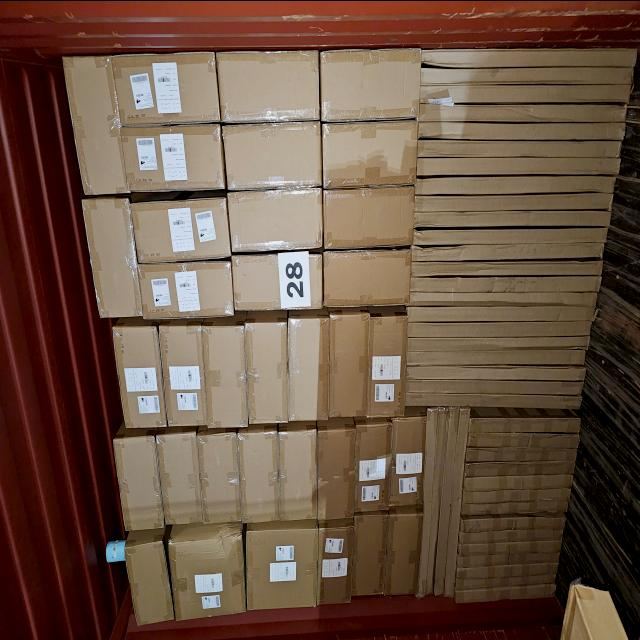Carton: (60, 50, 126, 196), (154, 430, 238, 526), (111, 48, 219, 122), (412, 224, 616, 262), (164, 526, 242, 625), (317, 45, 421, 119), (220, 48, 324, 119), (122, 121, 228, 190), (226, 120, 326, 186), (88, 193, 143, 312), (322, 118, 419, 184), (132, 194, 228, 258), (247, 526, 320, 610), (230, 188, 325, 251), (322, 184, 414, 247), (233, 252, 325, 311), (140, 260, 236, 316), (285, 312, 331, 424), (322, 248, 410, 304), (117, 322, 164, 426), (244, 316, 290, 422), (407, 274, 605, 298), (422, 64, 634, 86), (327, 312, 371, 418), (167, 325, 210, 428), (119, 433, 165, 528), (206, 320, 248, 424), (420, 46, 638, 66), (383, 414, 427, 512), (368, 313, 407, 422), (416, 102, 628, 122), (125, 536, 173, 624), (416, 409, 438, 600), (414, 156, 622, 176), (276, 422, 316, 524), (414, 140, 624, 159), (412, 192, 616, 211), (348, 506, 389, 600), (318, 425, 358, 521), (415, 122, 627, 140), (403, 331, 592, 351), (414, 209, 612, 228), (406, 318, 594, 338), (417, 176, 621, 194), (404, 344, 586, 364), (382, 509, 422, 600), (242, 428, 280, 522), (402, 300, 598, 318), (405, 361, 587, 380), (418, 87, 634, 103), (468, 416, 582, 446), (355, 422, 391, 512), (410, 259, 610, 275), (320, 524, 358, 602), (402, 378, 586, 394), (402, 392, 582, 407), (464, 476, 574, 498), (459, 512, 568, 534), (454, 582, 558, 604), (452, 571, 560, 592), (455, 552, 563, 572), (460, 498, 570, 514), (460, 528, 568, 544), (466, 444, 580, 459), (464, 462, 578, 477)
